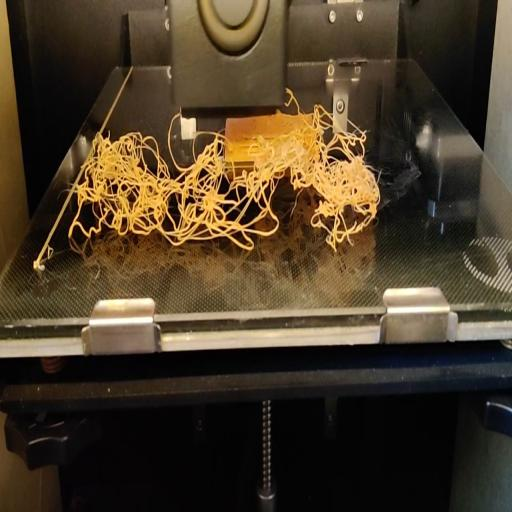spaghetti: (68, 126, 194, 268), (282, 85, 388, 250), (194, 124, 280, 249), (168, 110, 180, 124)
